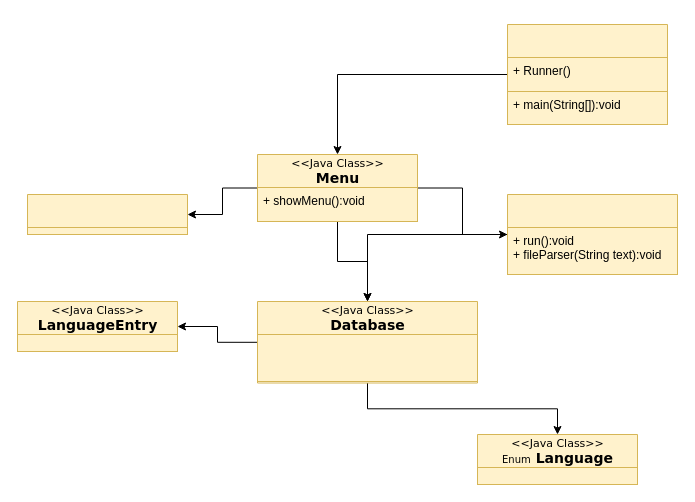
Image size: 695x502. Some labels were removed from this diagram. Each missing label, with the box of its shape:
+ add():void - getLanguageEntries(Language lang): (256, 334, 478, 382)
<<Java Class>> Helper: (26, 194, 188, 234)
<<Java Class>> Parser: (506, 194, 678, 274)
<<Java Class>> Runner: (506, 24, 668, 124)
